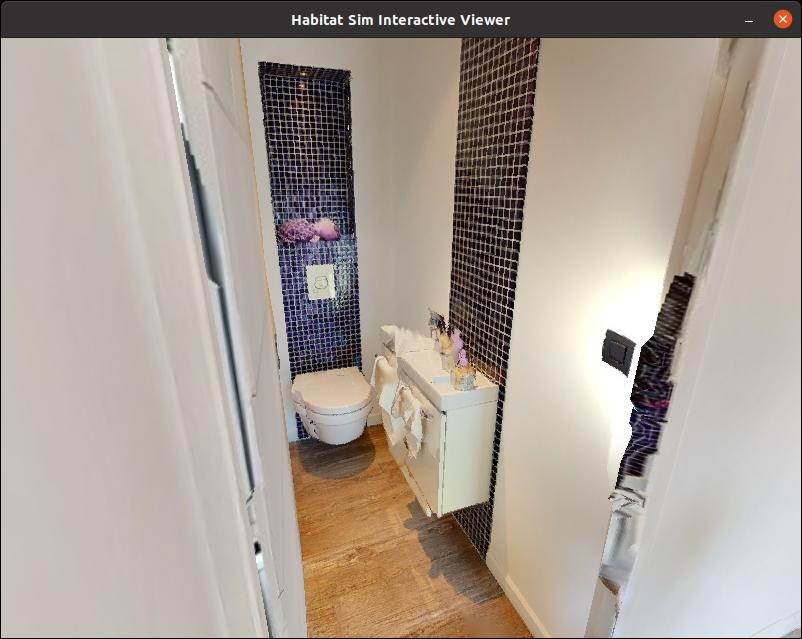toilet: (275, 359, 392, 460)
